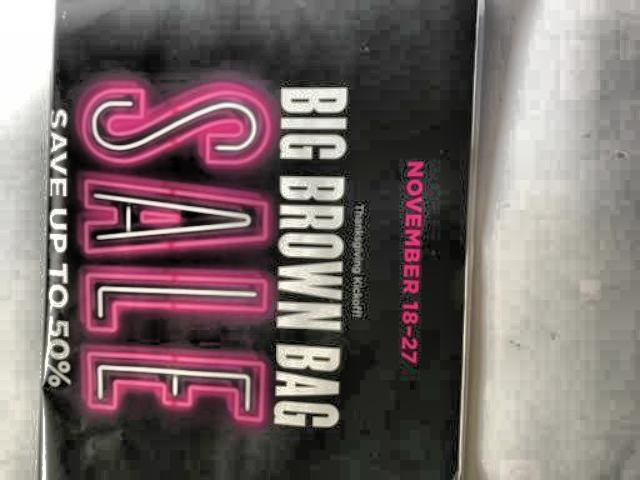Paper: (29, 0, 495, 480)
